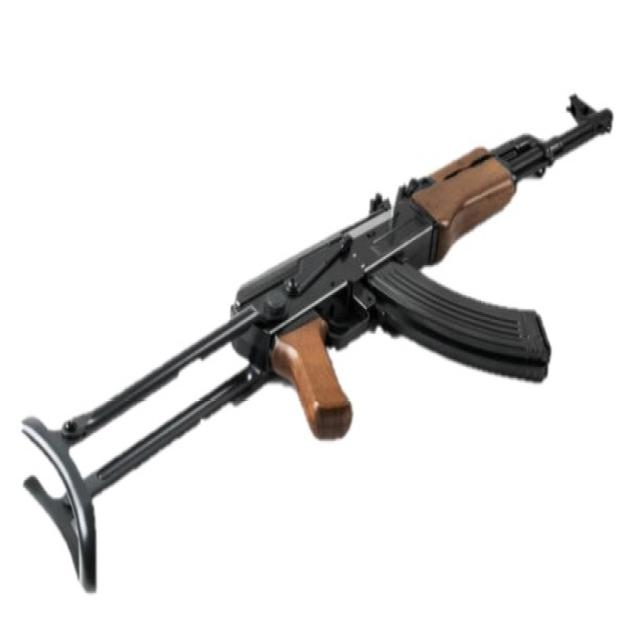rifle: (15, 79, 617, 611)
